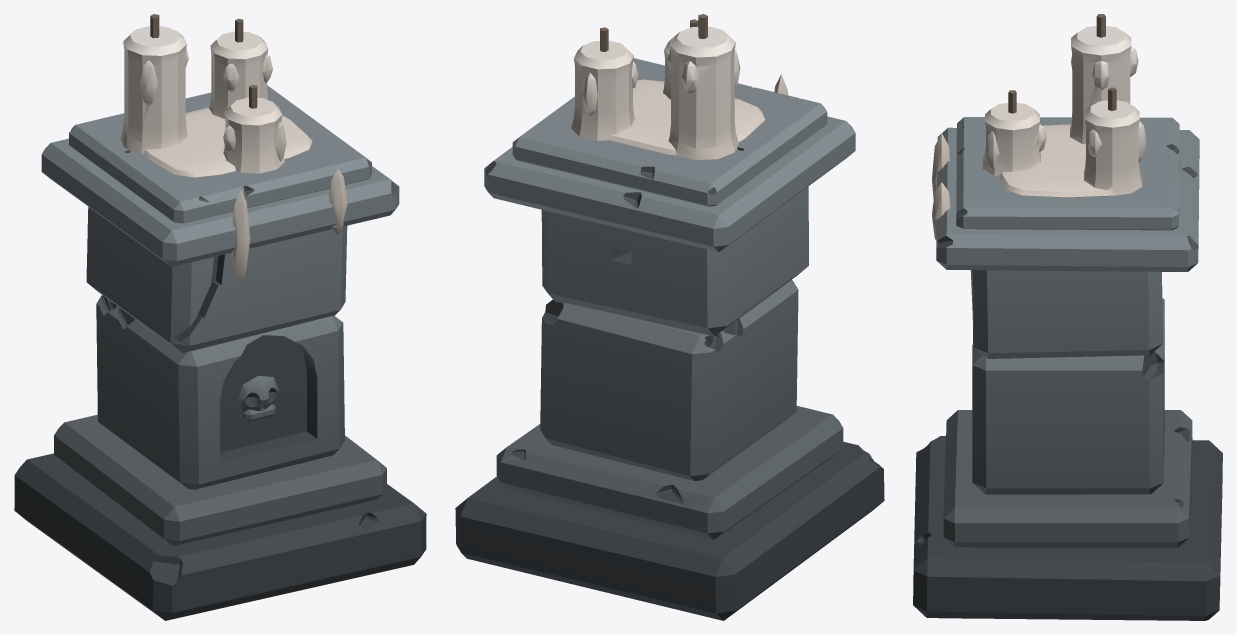
The model's file is grave_pedestal_candles.glb.
3 views of the same model, side by side, from view 1: azimuth 30°, elevation 25°; view 2: azimuth 150°, elevation 25°; view 3: azimuth 270°, elevation 25° (orthographic). The views are drawn at different scales.
Visible parts, largest first — view 1: grave_pedestal_candles; view 2: grave_pedestal_candles; view 3: grave_pedestal_candles.
Boxes of the visible parts, left/top/right/bottom form: grave_pedestal_candles: left=14, top=14, right=426, bottom=620; grave_pedestal_candles: left=455, top=14, right=884, bottom=620; grave_pedestal_candles: left=913, top=14, right=1222, bottom=620.
Size of the model in its own units: 1.13 by 2.07 by 1.12.
Materials: 1 (1 with a texture image).
